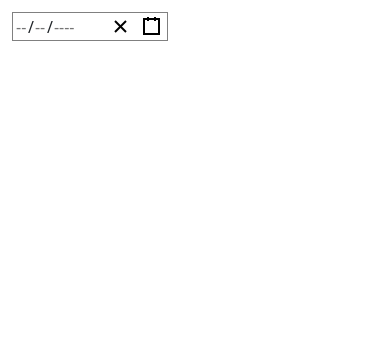
DatePicker › opens Calendar component when clicking on a button
Click the button with class "react-date-picker__calendar-button".
click(152, 26)  # box [136, 13, 167, 40]
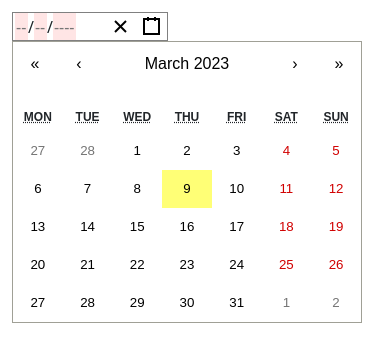
Now the element with class "react-calendar" is shown
